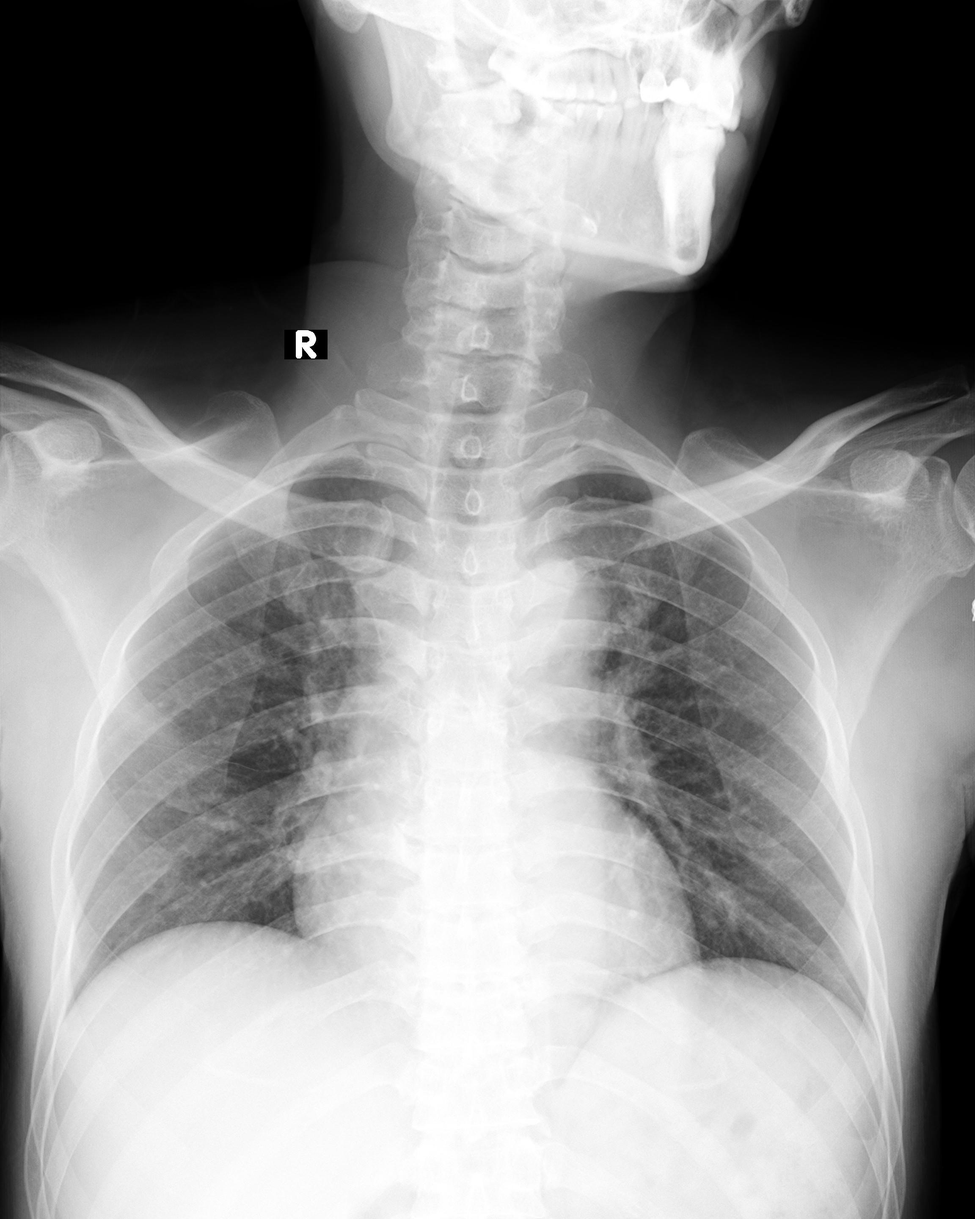Aortic enlargement: (476, 560, 602, 687)
